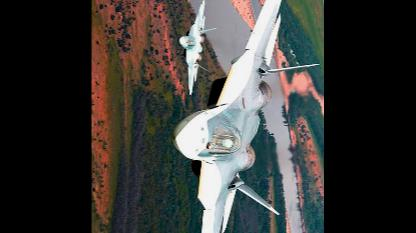SR71: (171, 0, 320, 232), (178, 0, 218, 95)
